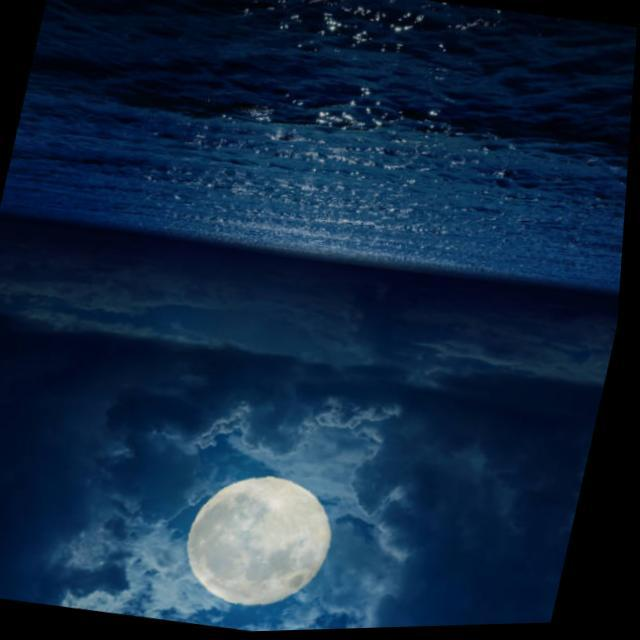moon: (177, 463, 352, 624)
